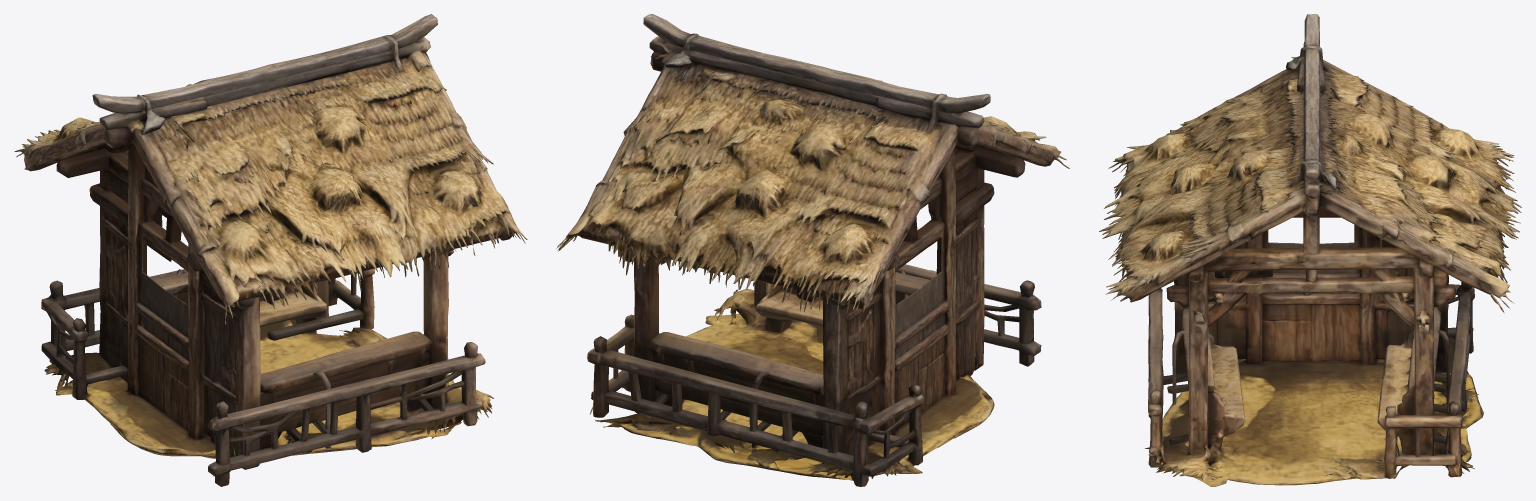
File: stable-high.glb
The picture shows the model from 3 angles, left to right: view 1: azimuth 30°, elevation 25°; view 2: azimuth 150°, elevation 25°; view 3: azimuth 270°, elevation 25°; orthographic projection. The views are drawn at different scales.
Bounding box in the file's own units: 0.8726 × 0.8368 × 0.9974.
Materials: 1 (1 with a texture image).
